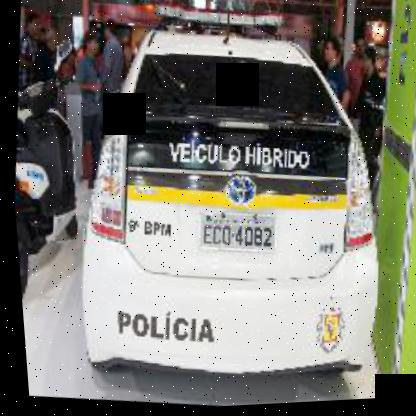emergency: (41, 0, 415, 404)
